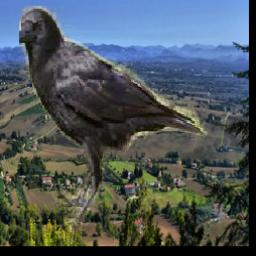Crow: (18, 7, 209, 227)
